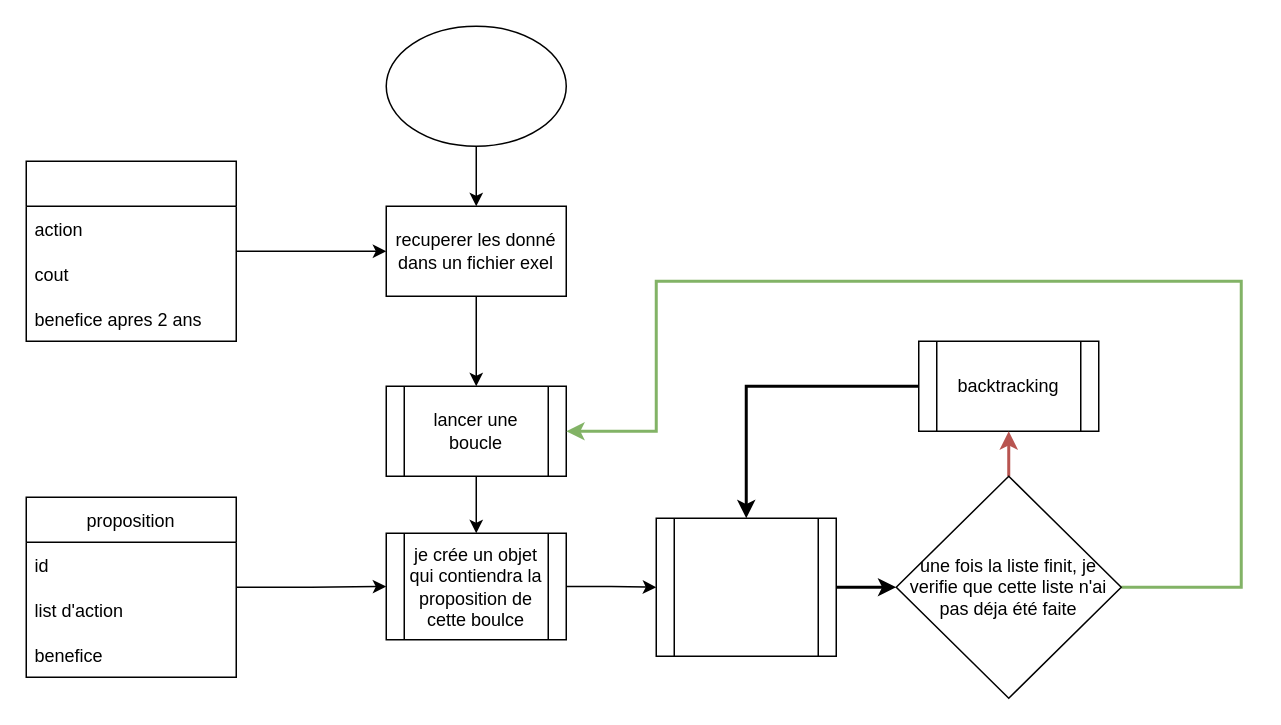
This 1281x725 diagram has some shape labels left out. The box of each missing label's shape, as (x1, y1, x2, y2) in pixels:
debut du programme: (385, 25, 566, 146)
exel: (25, 160, 236, 341)
tans que j'ai de l'argent, je regarde si je peut acheter l'action suivante: (655, 517, 836, 656)
